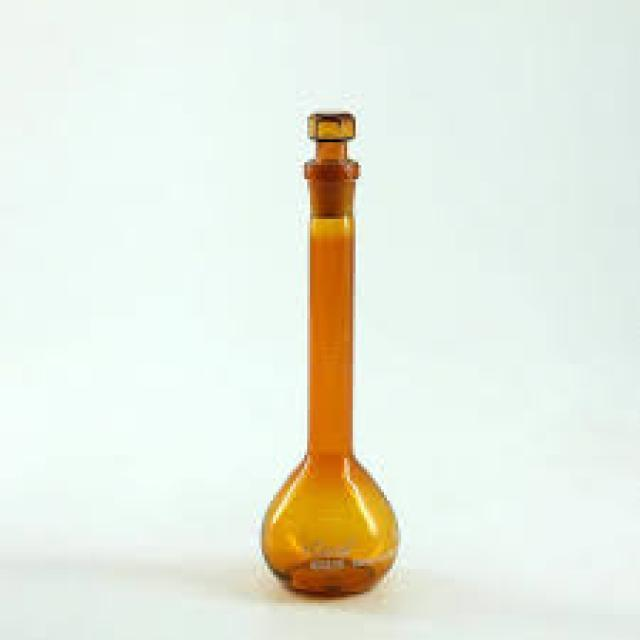Glass: (258, 112, 398, 598)
